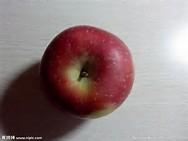apple: (38, 27, 146, 112)
